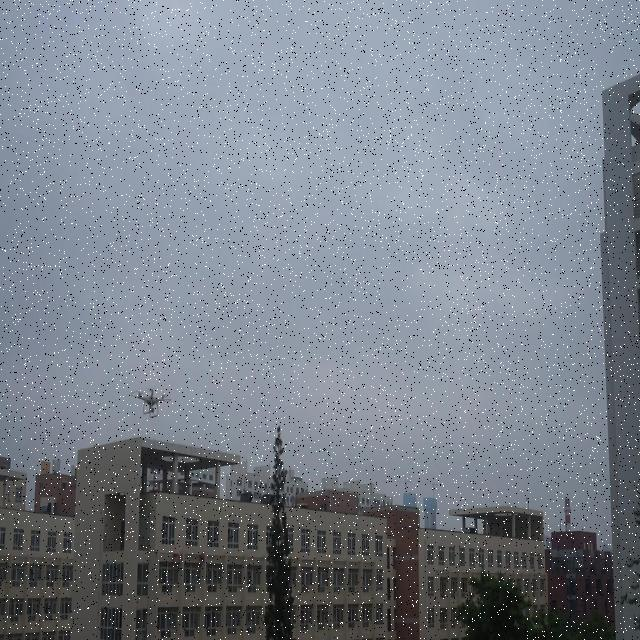UAV: (130, 389, 172, 418)
